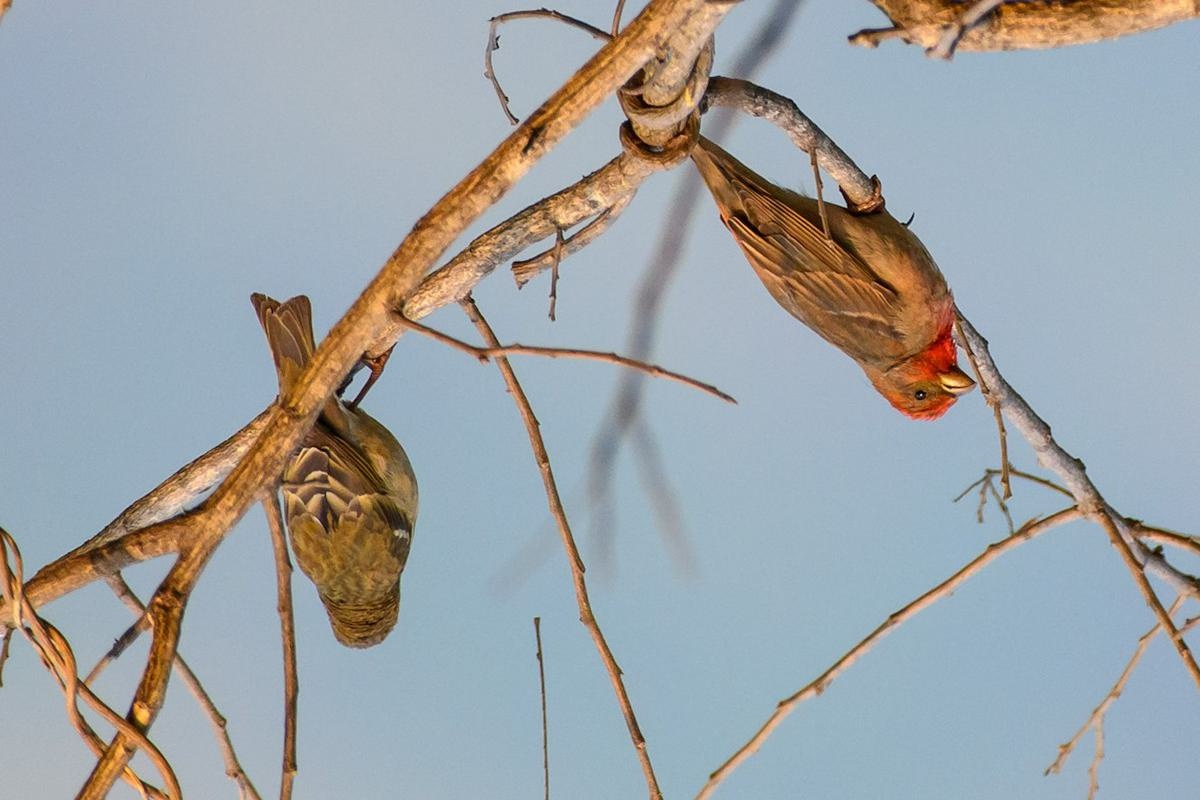rosefinch: (640, 134, 998, 428)
